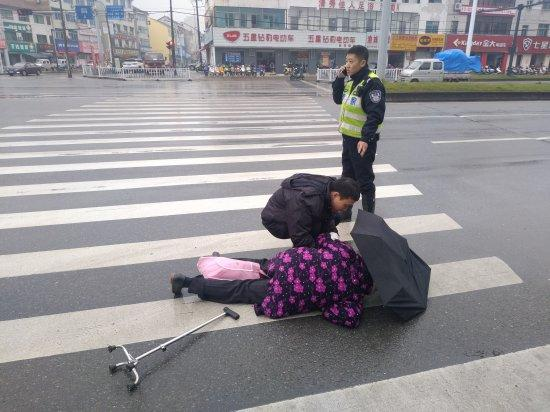bending: (260, 170, 365, 247)
down: (166, 234, 385, 330)
up: (331, 43, 387, 211)
